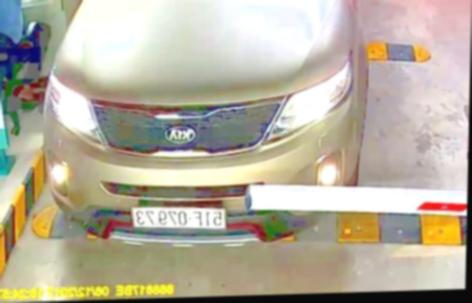License_Plate: (127, 200, 230, 236)
